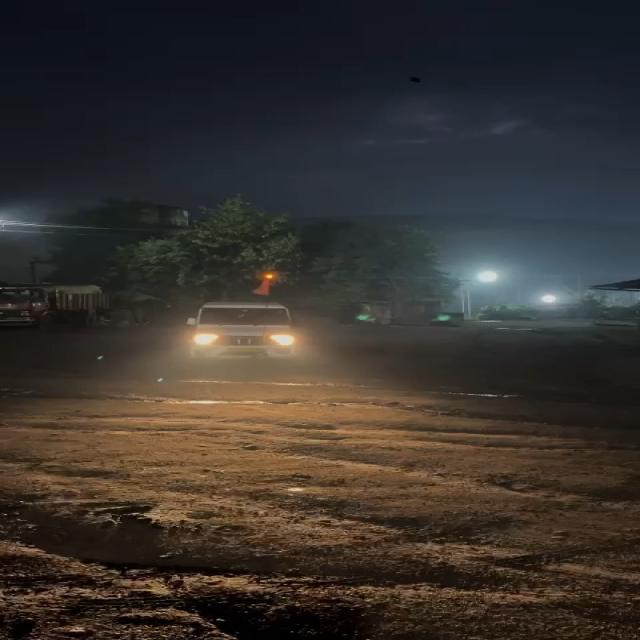light_vehicle: (181, 299, 304, 366)
